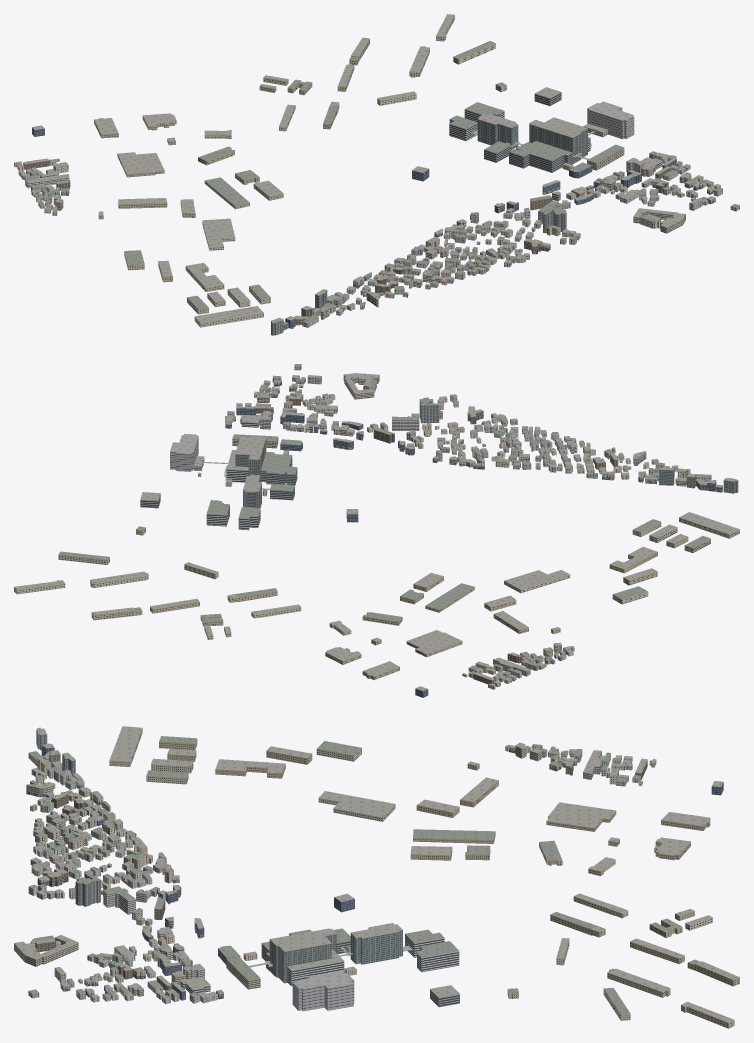
Rendered from ArahaTown_Block_E00000_S02048.gltf.
3 renders of one model, top to bottom at view 1: azimuth 30°, elevation 25°; view 2: azimuth 150°, elevation 25°; view 3: azimuth 270°, elevation 25°, orthographic. The views are drawn at different scales.
Parts seen in each view (by area): view 1: ArahaTown_Block_E00000_S02048; view 2: ArahaTown_Block_E00000_S02048; view 3: ArahaTown_Block_E00000_S02048.
Part boxes in pixels (x1,y1,x2,y2): ArahaTown_Block_E00000_S02048: [14, 14, 739, 335]; ArahaTown_Block_E00000_S02048: [14, 364, 739, 697]; ArahaTown_Block_E00000_S02048: [14, 726, 739, 1028].
Bounding box in the file's own units: 1054 × 106 × 1082.
24 materials, 23 textured.
